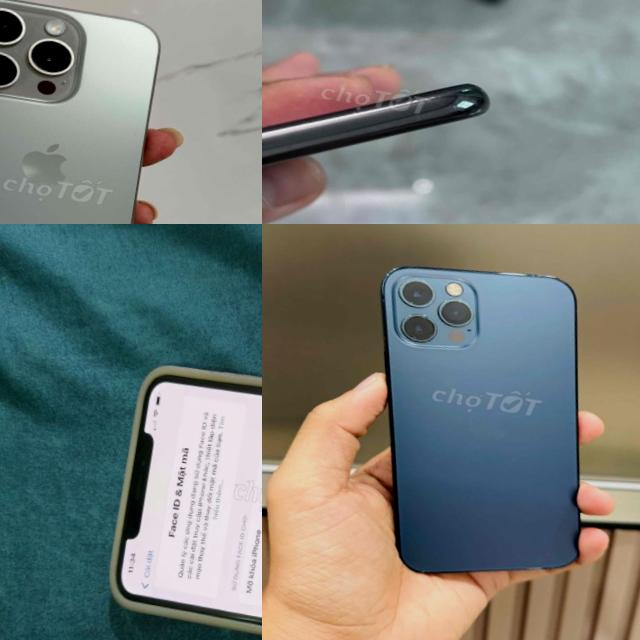gen_12_13: (340, 250, 625, 600)
gen_15: (0, 0, 187, 224)
gen_x_xs: (262, 8, 517, 224), (93, 355, 262, 640)
